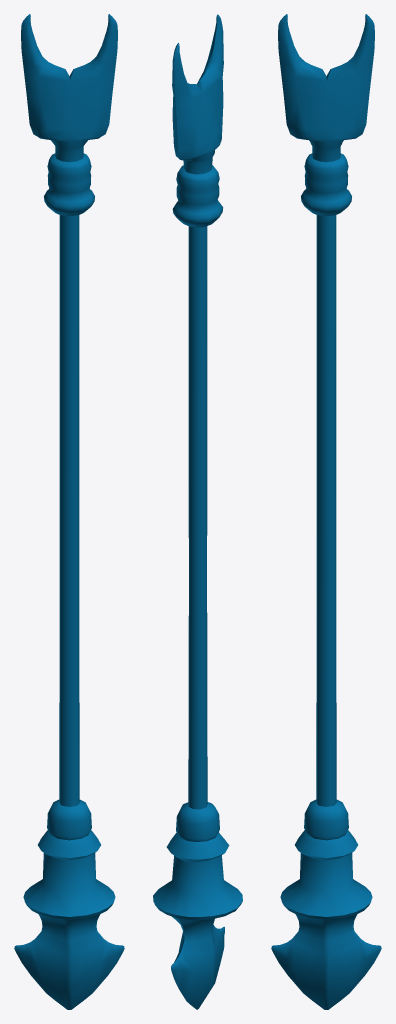
Rendered from Orc_Arrow.fbx.
The picture shows the model from 3 angles, left to right: view 1: azimuth 90°, elevation 25°; view 2: azimuth 150°, elevation 25°; view 3: azimuth 270°, elevation 25°; orthographic projection.
Visible parts, largest first — view 1: Arrow_low; view 2: Arrow_low; view 3: Arrow_low.
Part boxes in pixels (box(x1,y1,x2,y2)): Arrow_low: box(14, 14, 124, 1009); Arrow_low: box(153, 14, 242, 1009); Arrow_low: box(271, 14, 381, 1009).
Bounding box in the file's own units: 10.9 × 130 × 13.02.
